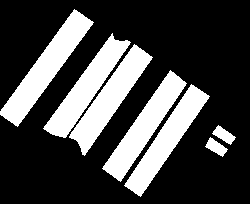parkingspot: (0, 9, 93, 126), (124, 84, 209, 196), (102, 70, 186, 181), (69, 44, 152, 155), (43, 33, 130, 137), (212, 125, 235, 144), (205, 137, 227, 156)
